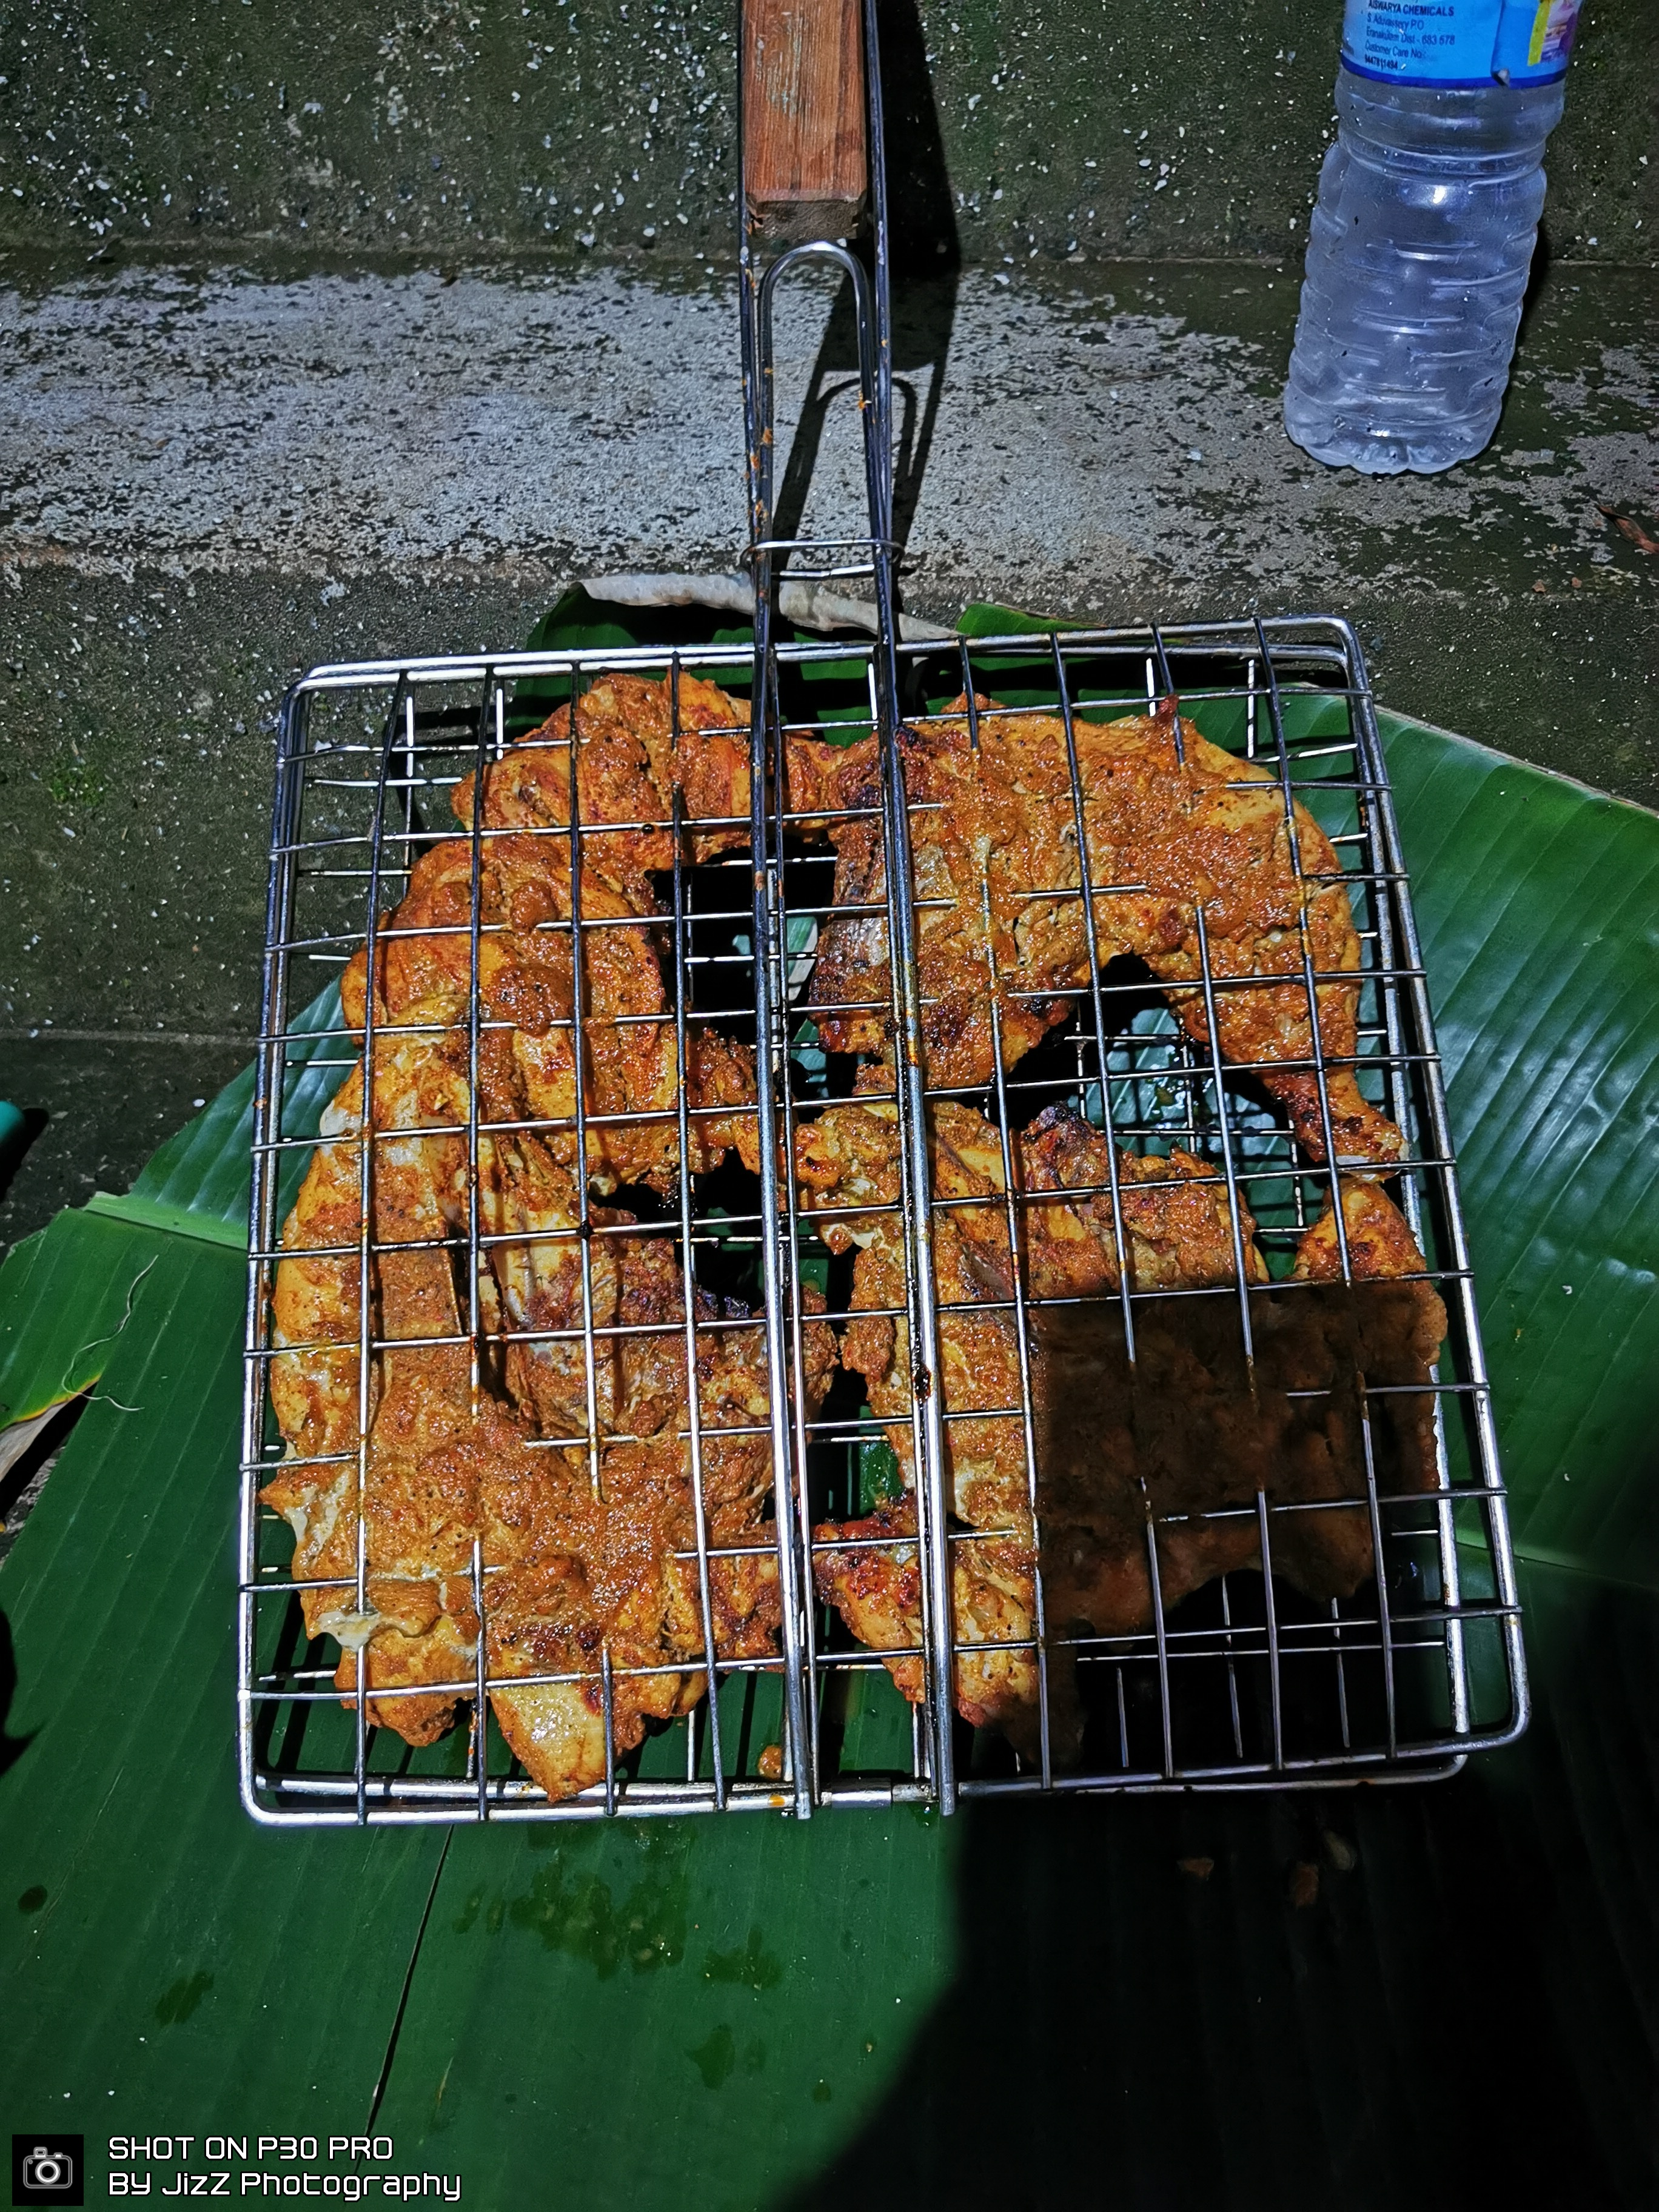food: (258, 655, 1446, 1813)
